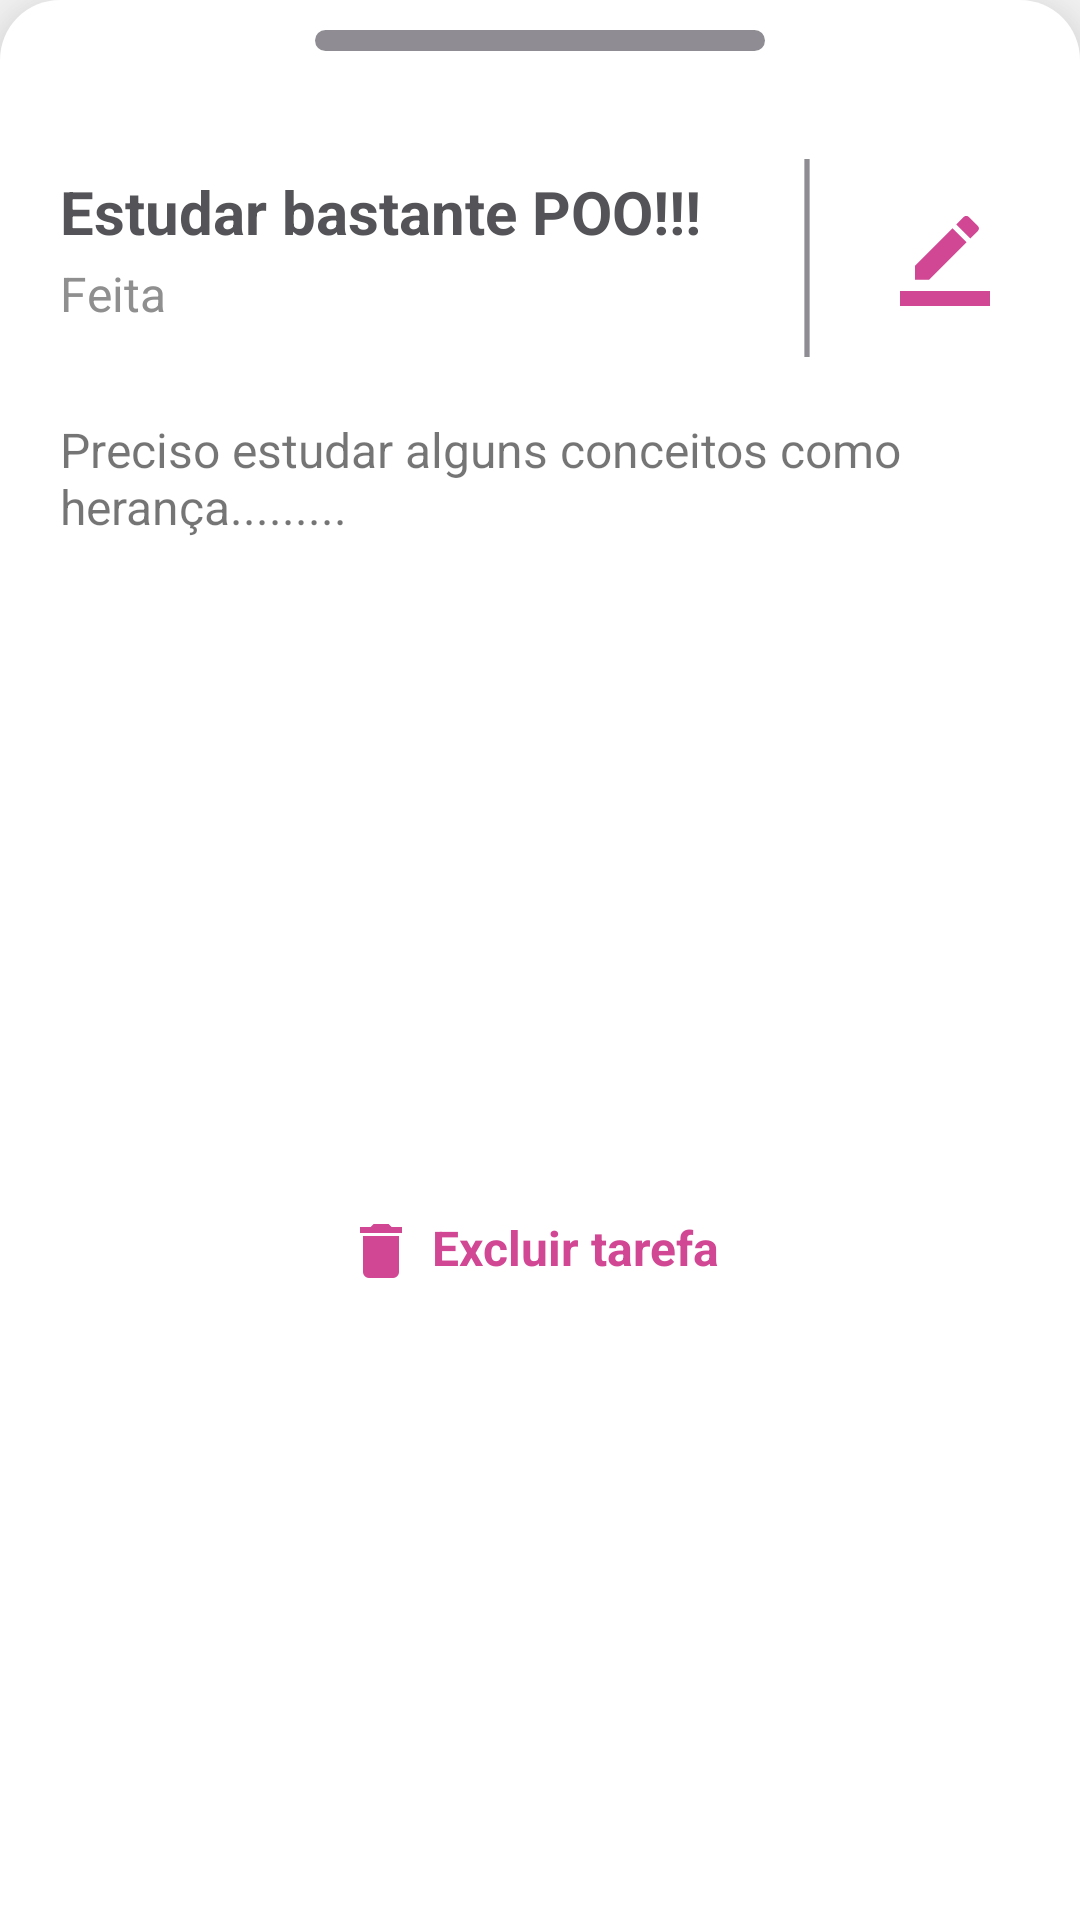

Screen size 1080 x 1920. Icon name, then its box in pixels as (x1, y1, x2, y2):
editar: (900, 216, 990, 306)
